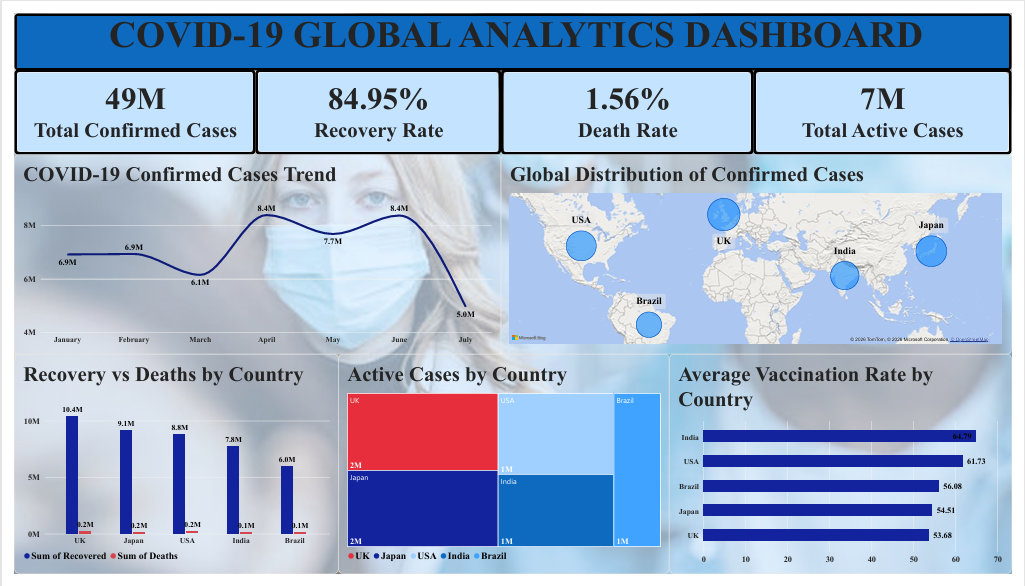

The page's visual inventory and layout, read from the dashboard file:
{"tool":"powerbi","page":{"name":"Page 1","canvas":[1920,1080],"ordinal":0},"visuals":[{"type":"shape","box":[0,0,1920.2,110.2],"z":1},{"type":"textbox","box":[10.8,0,1909.4,408.2],"z":501},{"type":"cardVisual","fields":{"Data":["Sum(COVID19.Confirmed)"]},"box":[0,108,464.4,164.2],"z":502},{"type":"cardVisual","fields":{"Data":["Avg(COVID19.Recovery Rate)"]},"box":[464.4,108,473,164.2],"z":503},{"type":"cardVisual","fields":{"Data":["Avg(COVID19.Death Rate)"]},"box":[937.4,108,486,164.2],"z":504},{"type":"cardVisual","fields":{"Data":["Sum(COVID19.Active)"]},"box":[1423.4,108,496.8,164.2],"z":505},{"type":"lineChart","title":"COVID-19 Confirmed Cases Trend","fields":{"Category":["COVID19.Date.Variation.Date Hierarchy.Month"],"Y":["Sum(COVID19.Confirmed)"]},"box":[0,272.2,937.4,384.5],"z":506},{"type":"clusteredColumnChart","title":"Recovery vs Deaths by Country","fields":{"Category":["COVID19.Country"],"Y":["Sum(COVID19.Recovered)","Sum(COVID19.Deaths)"]},"box":[0,656.6,624.2,423.4],"z":508},{"type":"clusteredBarChart","title":"Average Vaccination Rate by Country","fields":{"Category":["COVID19.Country"],"Y":["Avg(COVID19.Vaccination_Rate_%)"]},"box":[1261.4,656.6,658.8,423.4],"z":509},{"type":"treemap","title":"Active Cases by Country","fields":{"Group":["COVID19.Country"],"Values":["Sum(COVID19.Active)"]},"box":[624.2,656.6,637.2,423.4],"z":510},{"type":"map","title":"Global Distribution of Confirmed Cases","fields":{"Category":["COVID19.Country"],"Size":["Sum(COVID19.Confirmed)"]},"box":[937.4,272.2,982.8,384.5],"z":511}]}

Visuals, with their boxes in screenshot pixels (x1, y1, x2, y2), scaled from the page's 1920x1080 canvas onto the 1025x586 screenshot:
shape: 0:0:1024:60
textbox: 6:0:1024:221
cardVisual - Sum(COVID19.Confirmed): 0:59:248:148
cardVisual - Avg(COVID19.Recovery Rate): 248:59:500:148
cardVisual - Avg(COVID19.Death Rate): 500:59:760:148
cardVisual - Sum(COVID19.Active): 760:59:1024:148
"COVID-19 Confirmed Cases Trend" lineChart: 0:148:500:356
"Recovery vs Deaths by Country" clusteredColumnChart: 0:356:333:585
"Average Vaccination Rate by Country" clusteredBarChart: 673:356:1024:585
"Active Cases by Country" treemap: 333:356:673:585
"Global Distribution of Confirmed Cases" map: 500:148:1024:356
